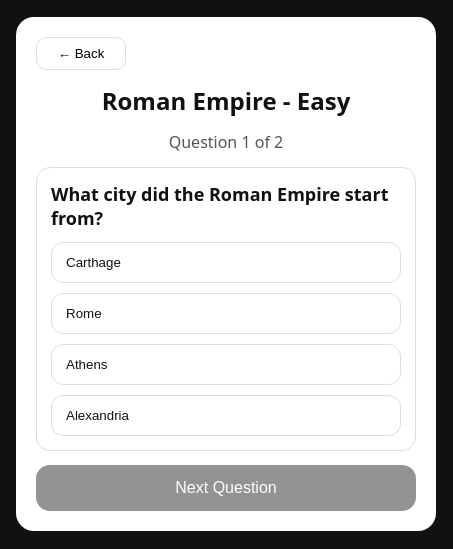
Test case: PracticeScreen › keeps Next Question disabled until an answer is selected
The width and height of the screenshot is (453, 549).
expect the button "Next Question" is disabled: met, box x1=36 y1=465 x2=416 y2=511
Click the button "Rome".
click(84, 314)  # box x1=51 y1=293 x2=401 y2=334
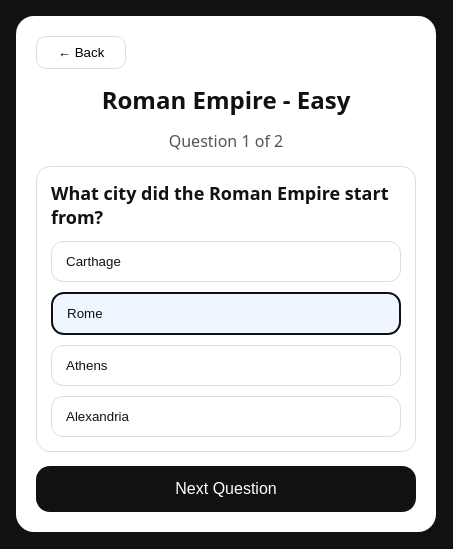
expect the button "Next Question" is enabled: met, box x1=36 y1=466 x2=416 y2=512
